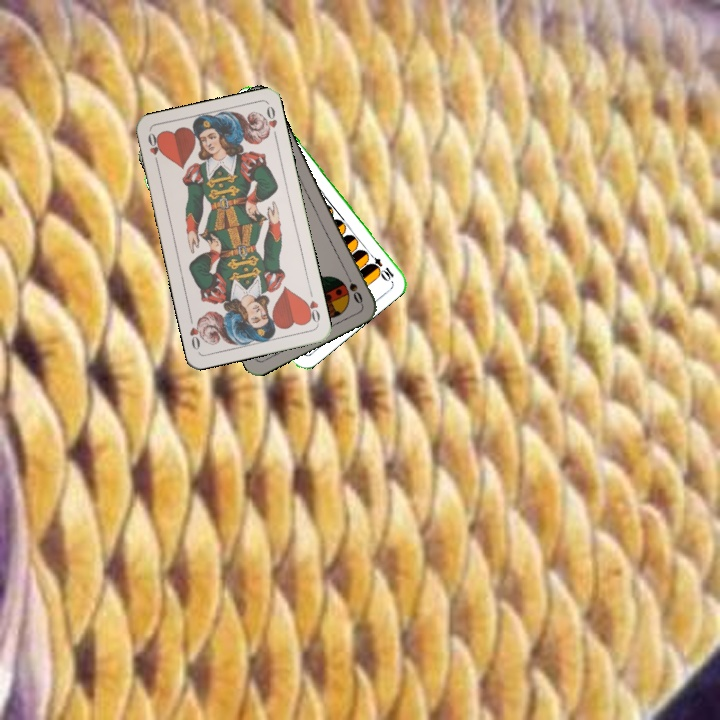E10: (363, 248, 397, 283)
HO: (301, 286, 322, 326), (144, 129, 164, 169)
SO: (341, 268, 365, 306)
